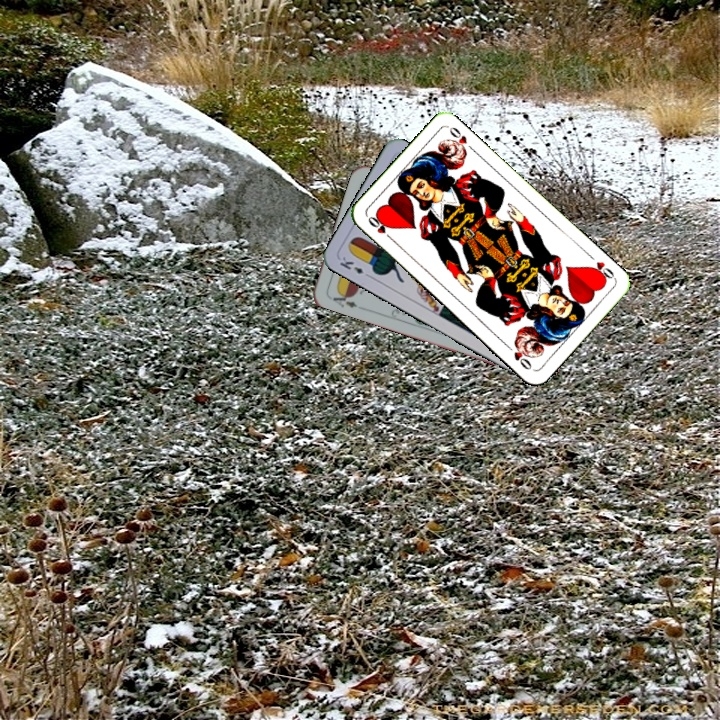EA: (329, 287, 360, 310)
EK: (336, 253, 374, 281)
HO: (364, 212, 396, 244), (586, 257, 618, 285)
